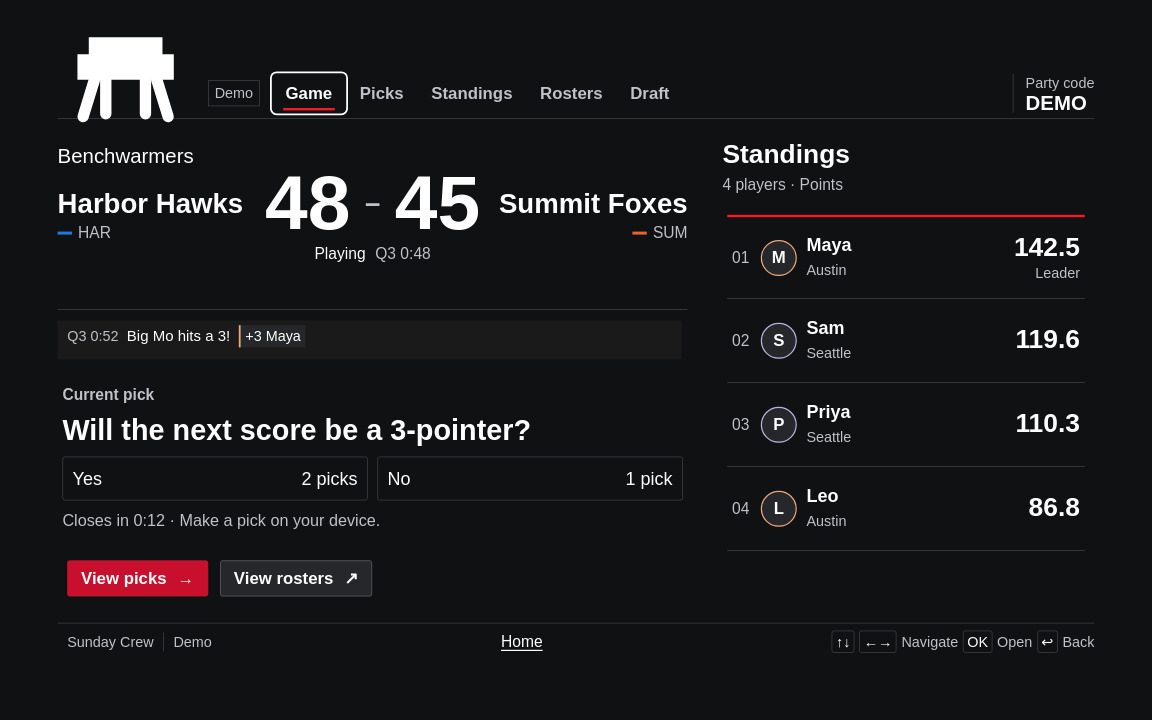
TvPage › keeps panels closed until toggled, and never rotates away from the game
Click the button "Rosters".
click(571, 93)  # box [529, 75, 614, 111]
Wait 45000 ms
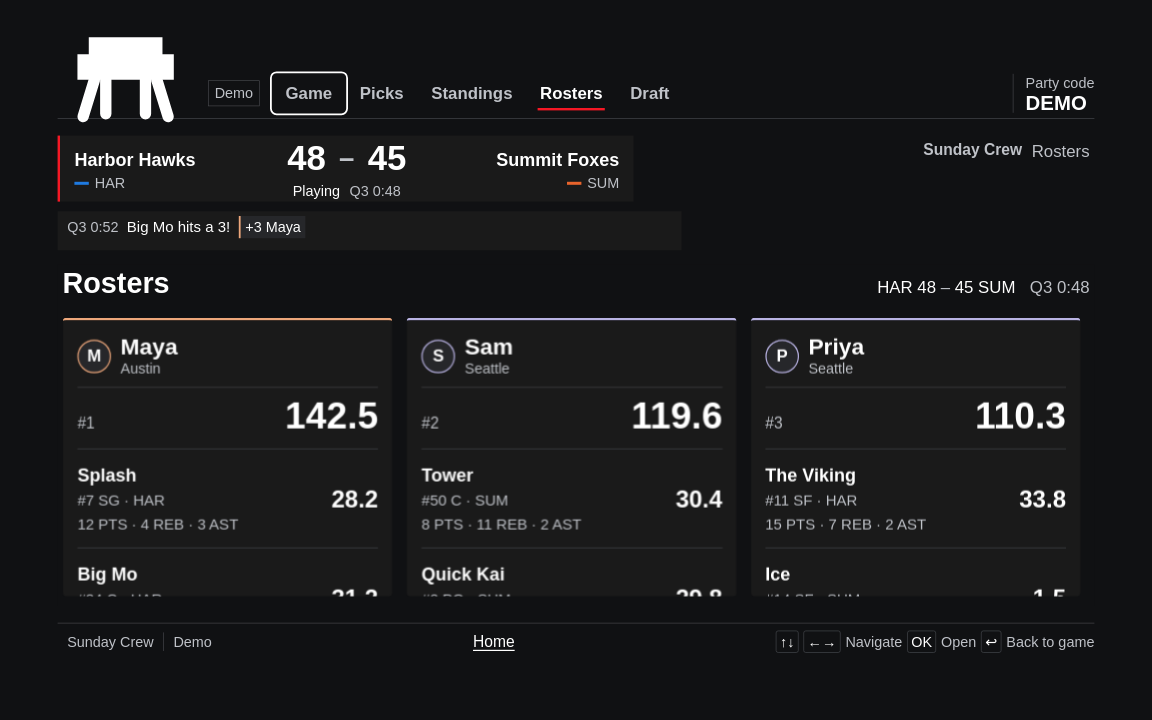
Expected: the element with class "tv-rosters" is shown, [62, 269, 1090, 601]
Press Escape
Wait 20000 ms
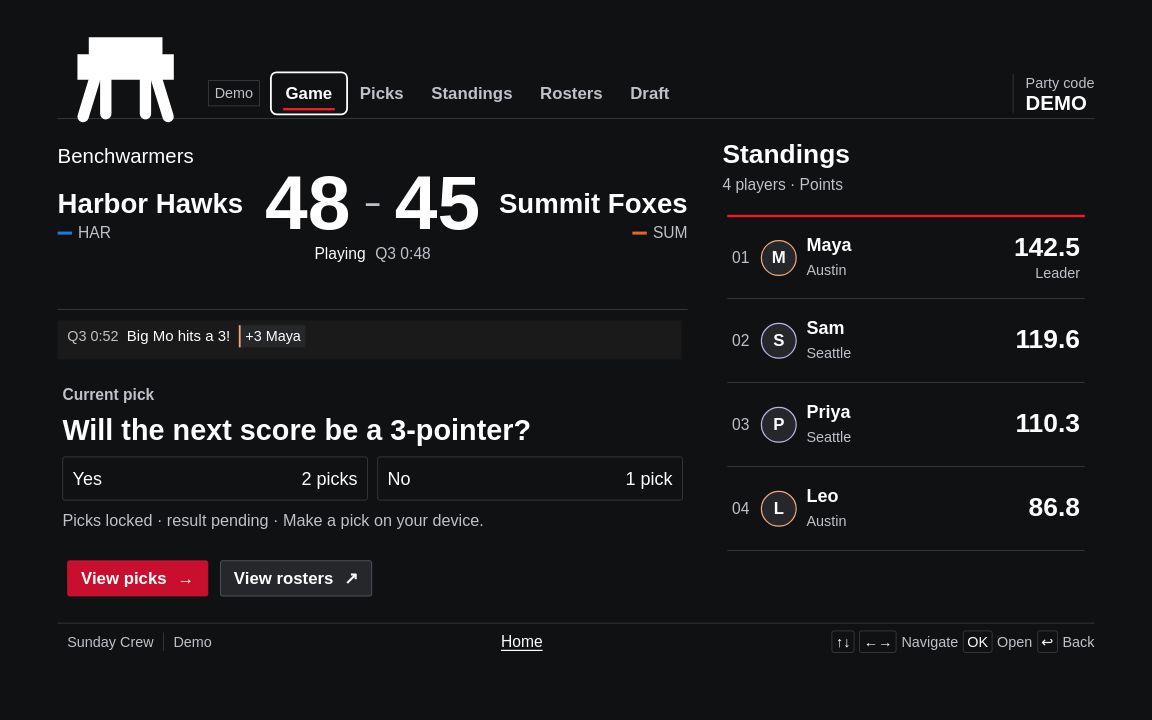
Expected: the element with class "tv-rosters" is gone
